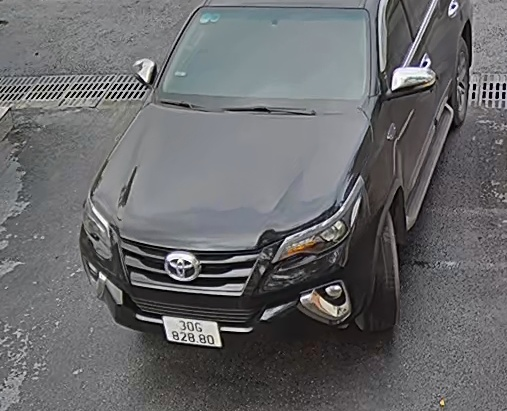vehicle plate: (156, 316, 226, 349)
